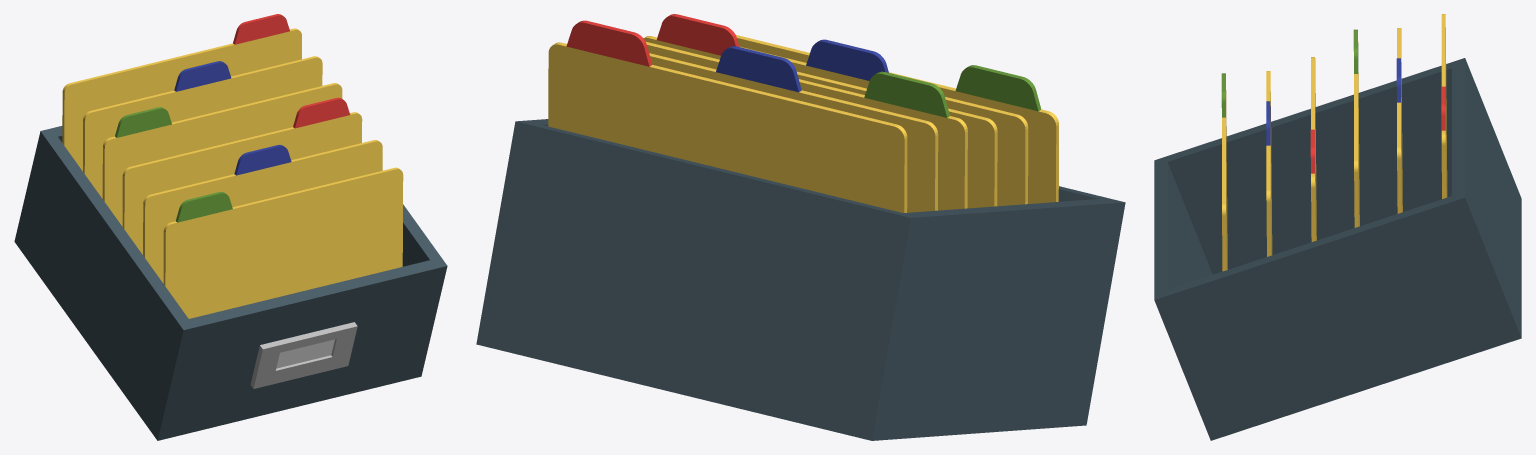
Rendered from card_file_box.glb.
3 renders of one model, left to right at view 1: azimuth 30°, elevation 25°; view 2: azimuth 150°, elevation 25°; view 3: azimuth 270°, elevation 25°, orthographic. The views are drawn at different scales.
Parts seen in each view (by area): view 1: Cube.985; view 2: Cube.985; view 3: Cube.985.
Part boxes in pixels (box(x1,y1,x2,y2)): Cube.985: box(14, 14, 447, 440); Cube.985: box(476, 14, 1125, 440); Cube.985: box(1154, 14, 1521, 440).
Size of the model in its own units: 1.94 by 2.05 by 2.15.
1 material, 1 textured.
